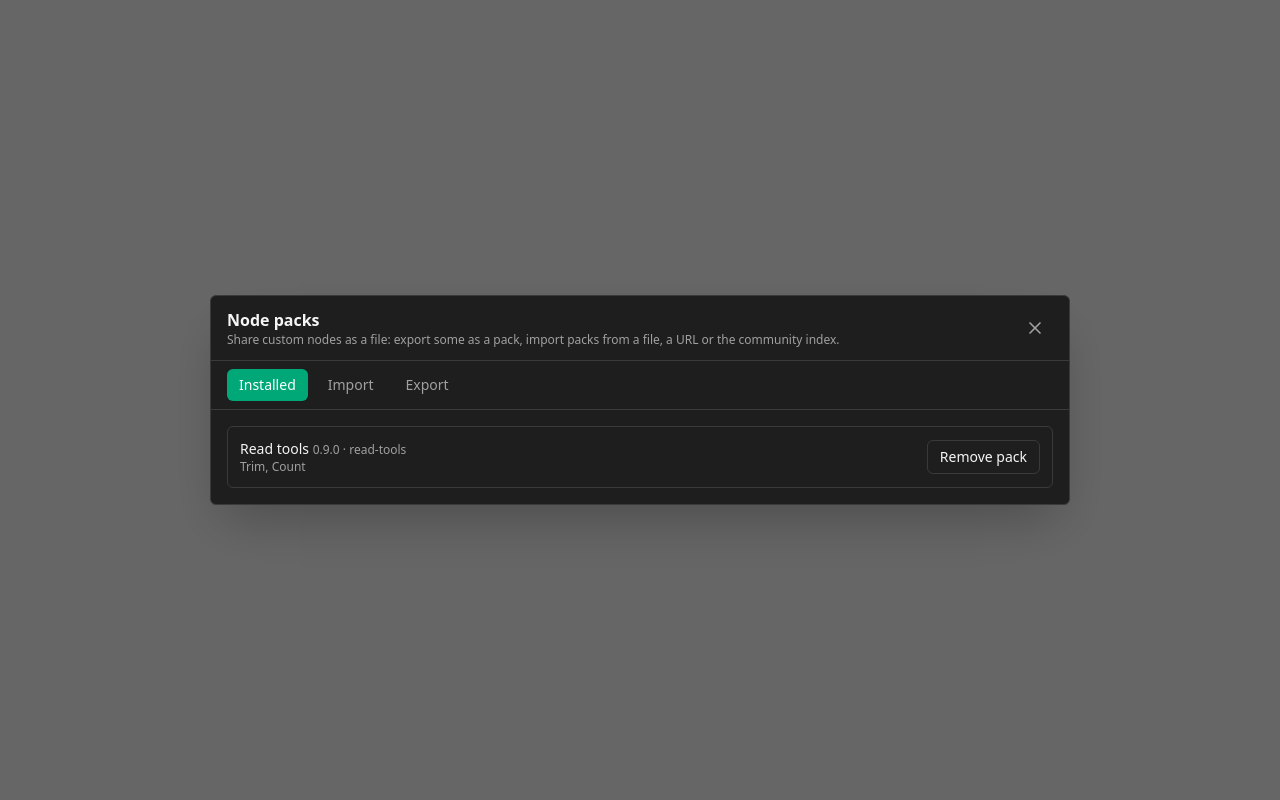
NodePacksModal › installed › removes a pack after confirming
The width and height of the screenshot is (1280, 800).
Click the button with aria-label "Remove Read tools" at (983, 457), box [927, 440, 1040, 474]
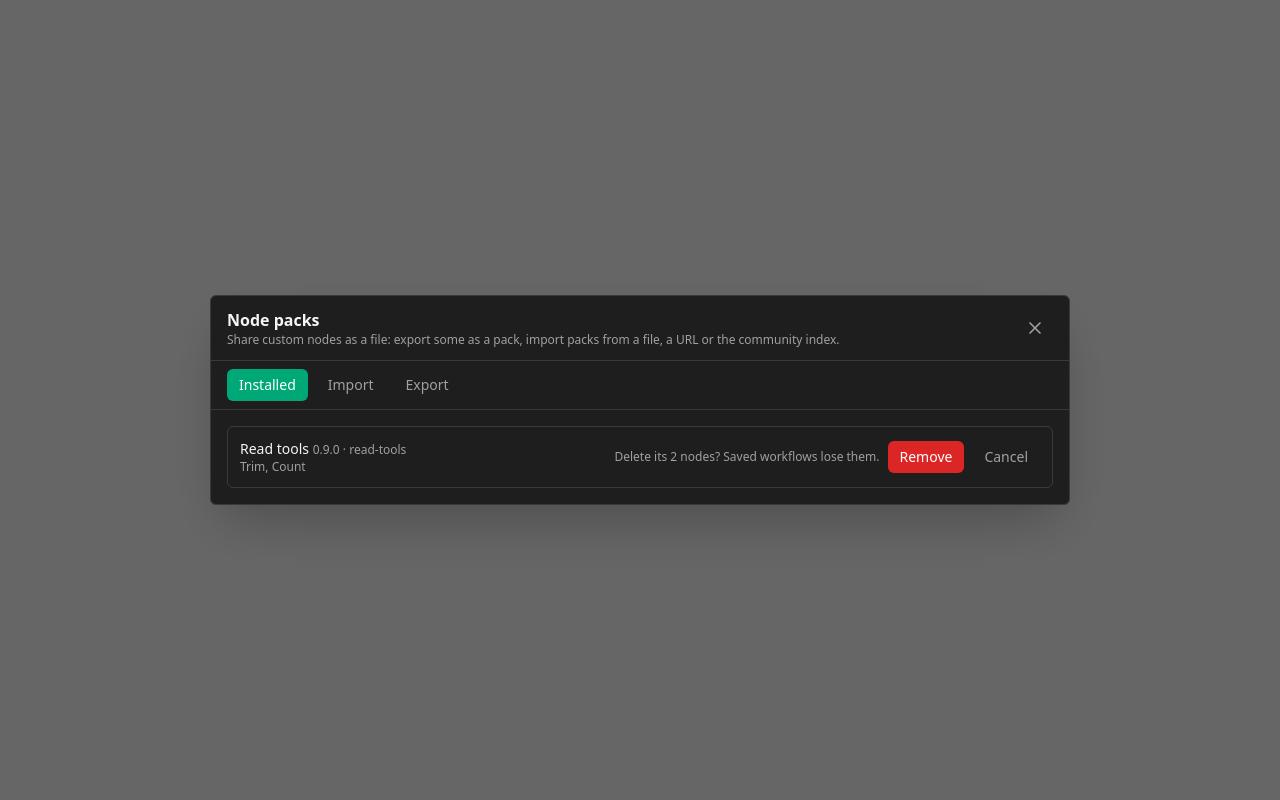
Expected: the text "Delete its 2 nodes? Saved workflows lose them." is shown, [614, 449, 880, 465]
Click the button "Remove" at (926, 457), box [888, 441, 964, 473]
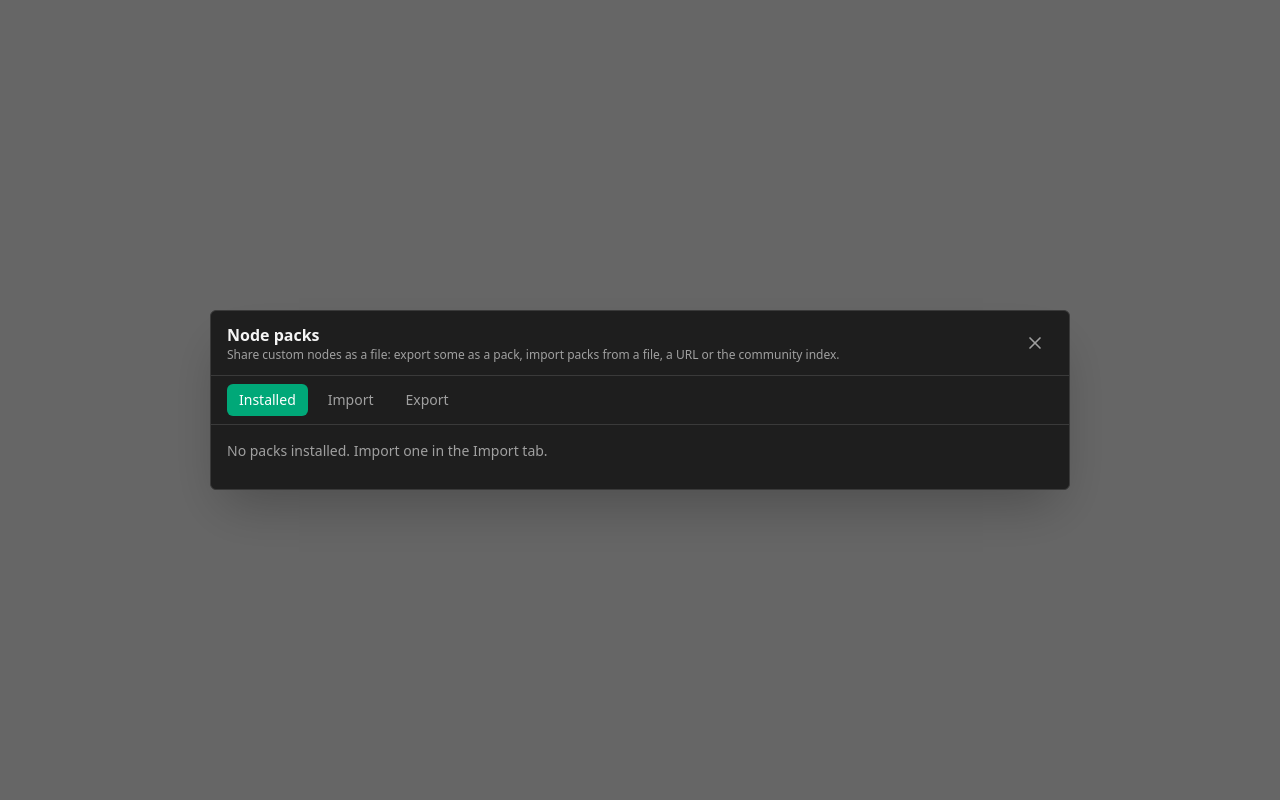
Expected: the text "No packs installed. Import one in the Import tab." is shown, [227, 441, 548, 460]
